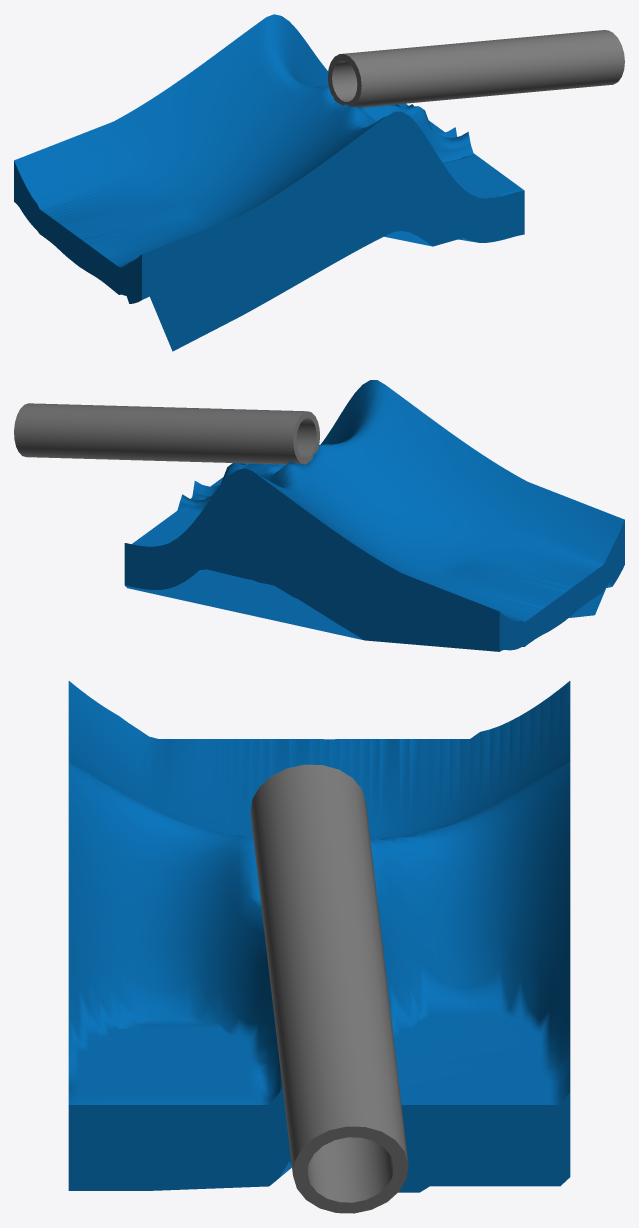
File: rohrhuegel.fbx
3 views of the same model, one above another, from view 1: azimuth 30°, elevation 25°; view 2: azimuth 150°, elevation 25°; view 3: azimuth 270°, elevation 25° (orthographic). The views are drawn at different scales.
Visible parts, largest first — view 1: hill, hillpipe; view 2: hill, hillpipe; view 3: hill, hillpipe.
Boxes of the visible parts, x1,y1,x2,y2 form: hill: (14,14,524,351); hillpipe: (327,30,624,107); hill: (124,380,624,651); hillpipe: (14,403,319,464); hill: (68,681,570,1192); hillpipe: (250,764,408,1213).
Size of the model in its own units: 28.34 by 9.63 by 11.58.
